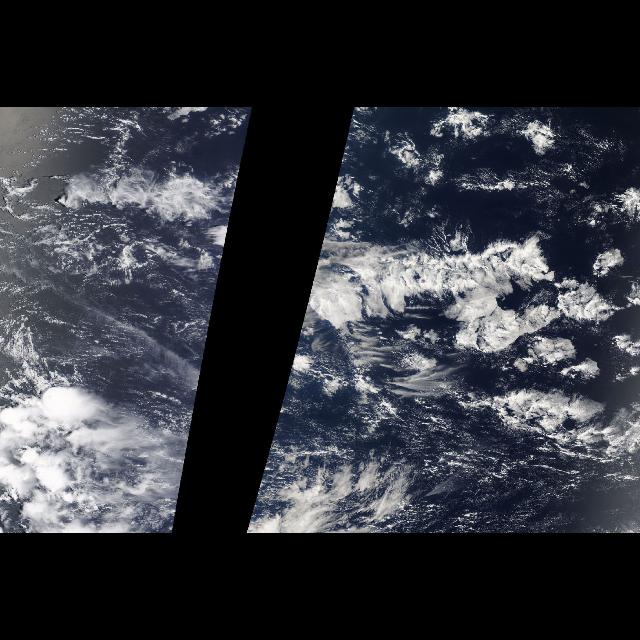Fish: (293, 216, 621, 356), (203, 216, 231, 356)
Sugar: (393, 441, 639, 532), (73, 278, 219, 380), (266, 384, 362, 458), (485, 150, 593, 212)
